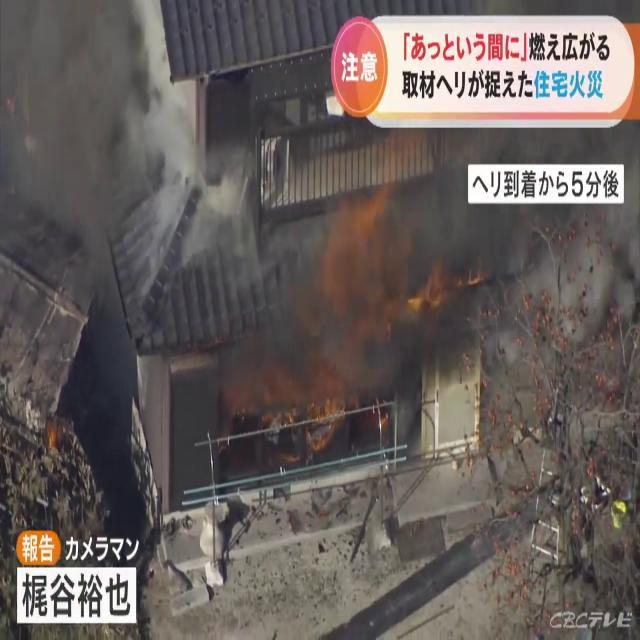Smoke: (148, 90, 486, 417), (0, 0, 178, 280), (586, 104, 640, 350)
